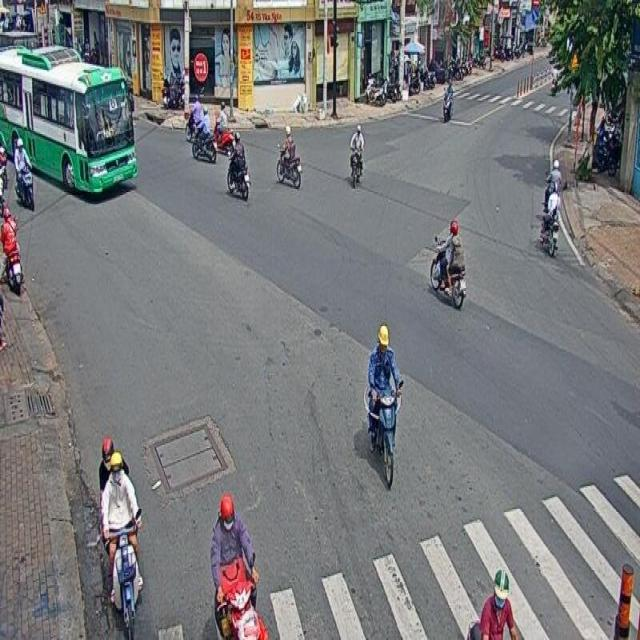bus: (0, 43, 138, 194)
motorcycle: (98, 438, 142, 636), (208, 497, 262, 640), (368, 323, 402, 488), (429, 218, 466, 309), (276, 125, 302, 190), (226, 131, 250, 201), (13, 137, 34, 212), (191, 105, 217, 163), (542, 180, 559, 256), (350, 125, 364, 189)
